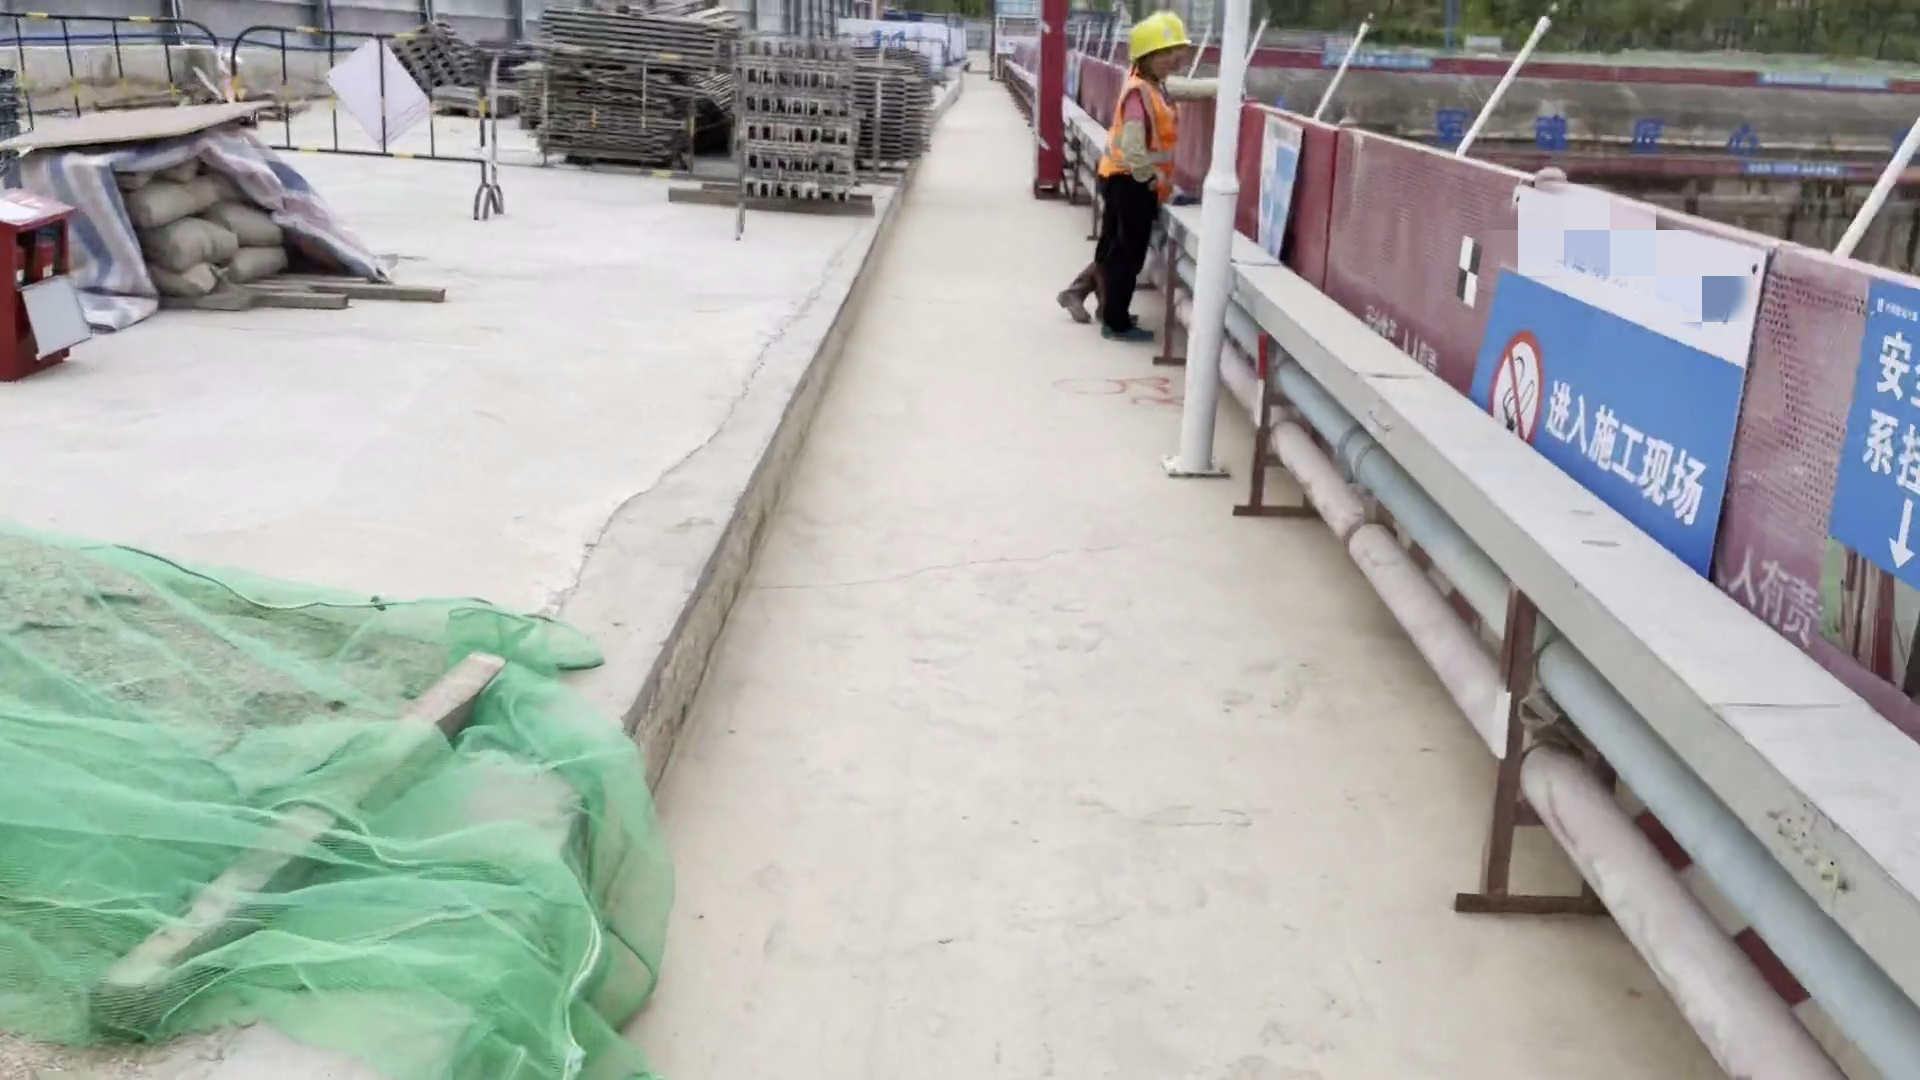board: (4, 74, 294, 170)
fence: (1235, 104, 1725, 608), (1707, 216, 1920, 756)
helmet: (1129, 16, 1174, 73), (1150, 6, 1198, 57)
person: (1051, 7, 1192, 341), (1097, 12, 1174, 354)
slogan: (1464, 174, 1794, 595), (1825, 268, 1920, 699), (1241, 99, 1323, 285), (1314, 43, 1445, 81), (988, 4, 1069, 43)
vest: (1107, 74, 1190, 201)
